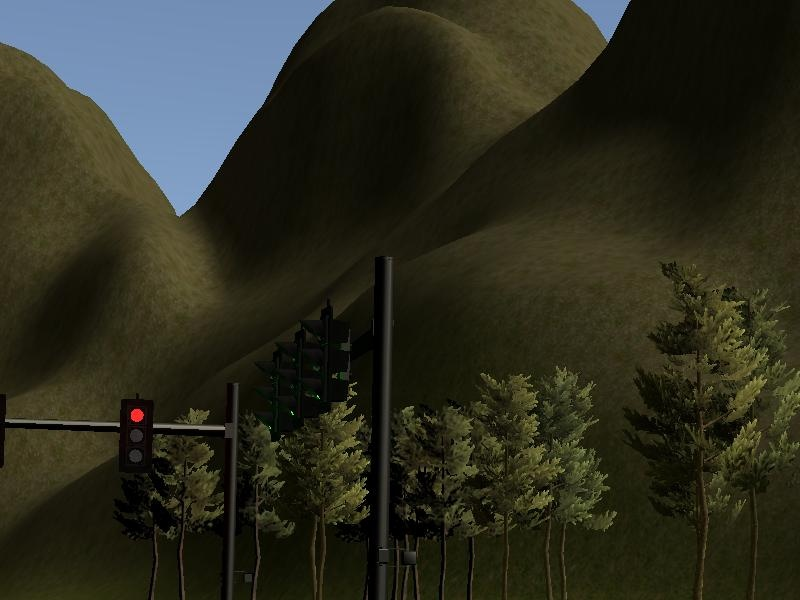RED: (118, 400, 152, 470)
